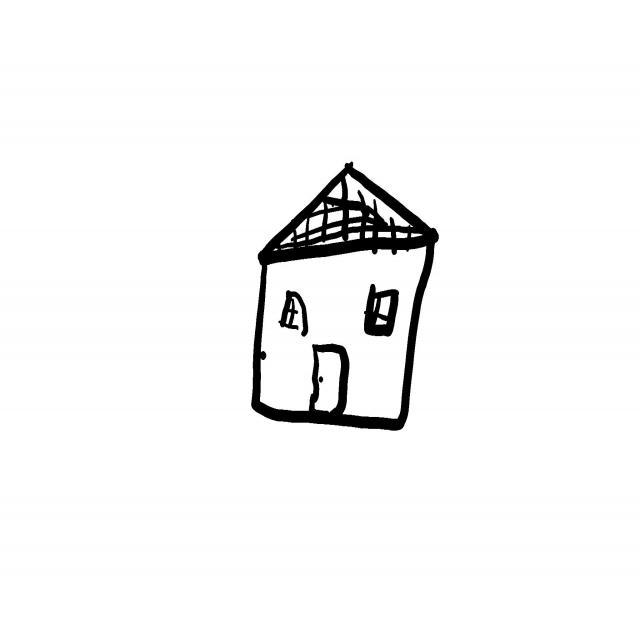door: (305, 340, 350, 408)
house: (253, 162, 440, 430)
roof: (260, 163, 440, 266)
wall: (254, 249, 433, 426)
window: (364, 282, 395, 336), (280, 284, 309, 330)
